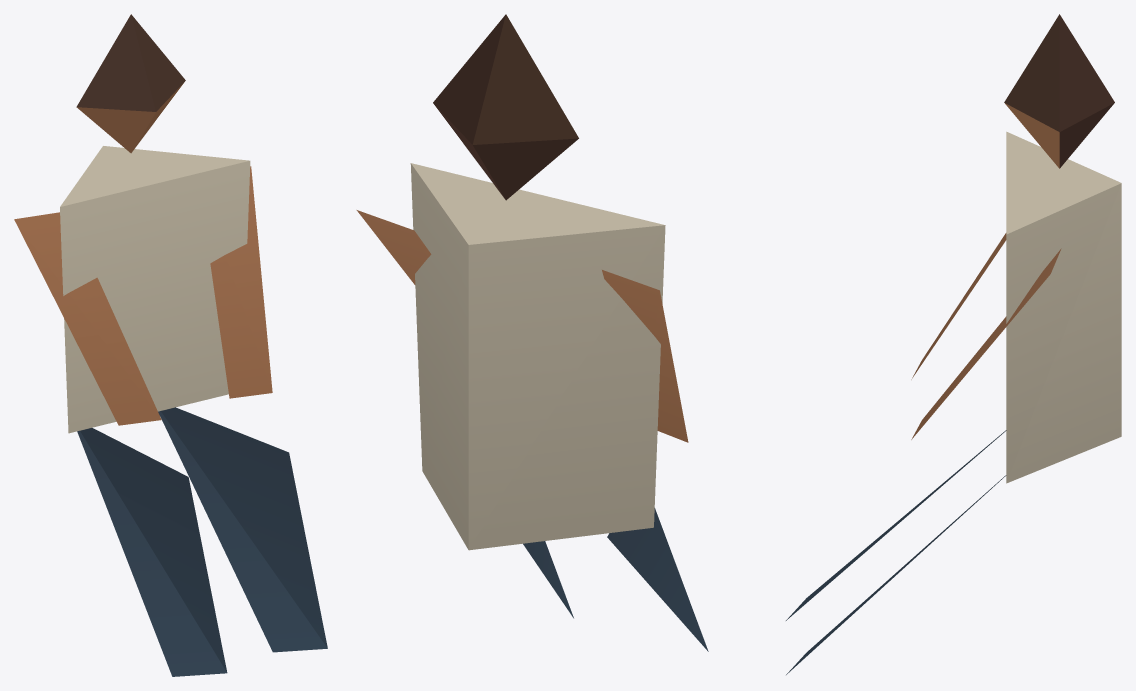
Rendered from fan-06.glb.
3 views of the same model, side by side, from view 1: azimuth 30°, elevation 25°; view 2: azimuth 150°, elevation 25°; view 3: azimuth 270°, elevation 25° (orthographic). The views are drawn at different scales.
Parts seen in each view (by area): view 1: fan-06; view 2: fan-06; view 3: fan-06.
Part boxes in pixels (x1,y1,x2,y2): fan-06: (14,14,327,676); fan-06: (356,14,708,651); fan-06: (786,14,1121,674).
Bounding box in the file's own units: 0.67 × 1.55 × 0.76.
